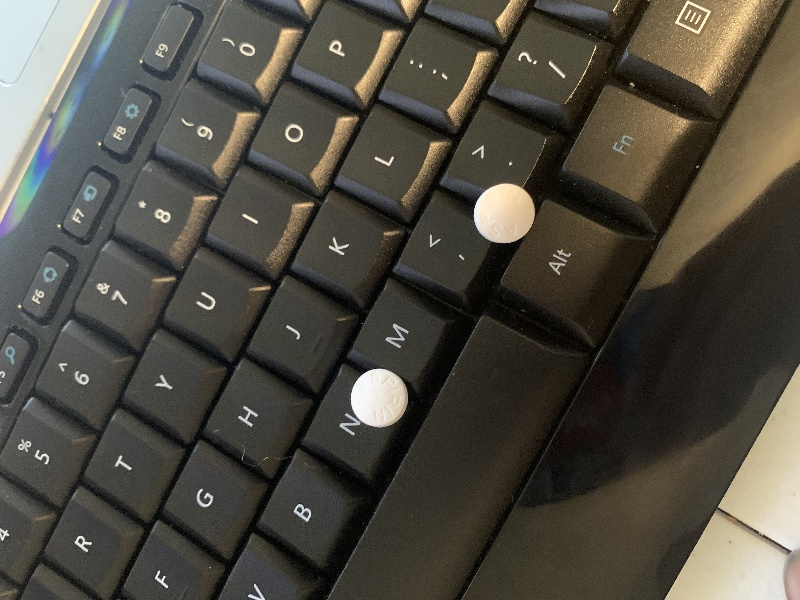Aspirin: (467, 178, 541, 250), (346, 364, 413, 433)
